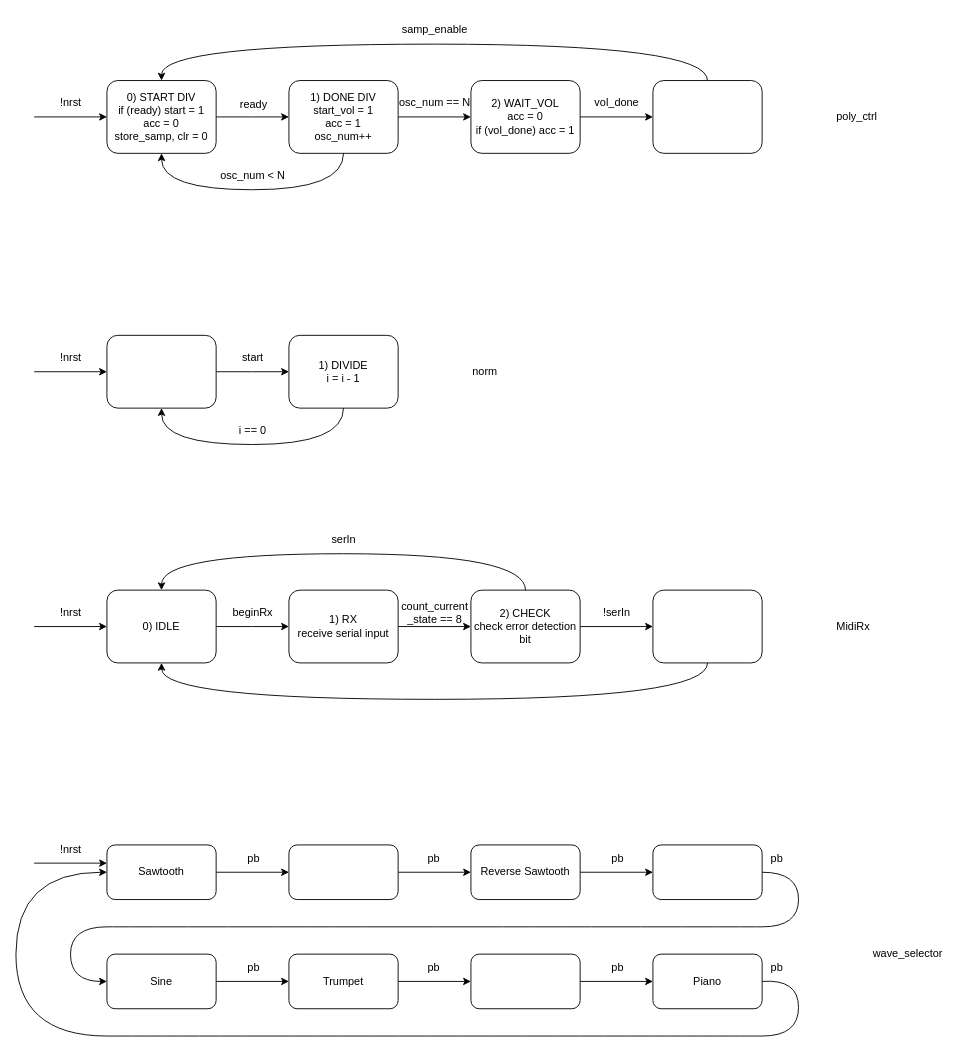
Image size: 978x1052. Some labels were removed from this diagram. Here are the shapes that lost their labels. From the top down, the centre of each, then its label:
At point 707,116: "3) HOLD SAMP acc = 0 if (samp_enable) store_samp, clr = 1 osc_num = 0".
At point 161,371: "0) READY receive inputs at start".
At point 707,626: "3) ERROR clear dataOut".
At point 343,872: "Square".
At point 707,872: "Triangle".
At point 525,981: "Violin".
